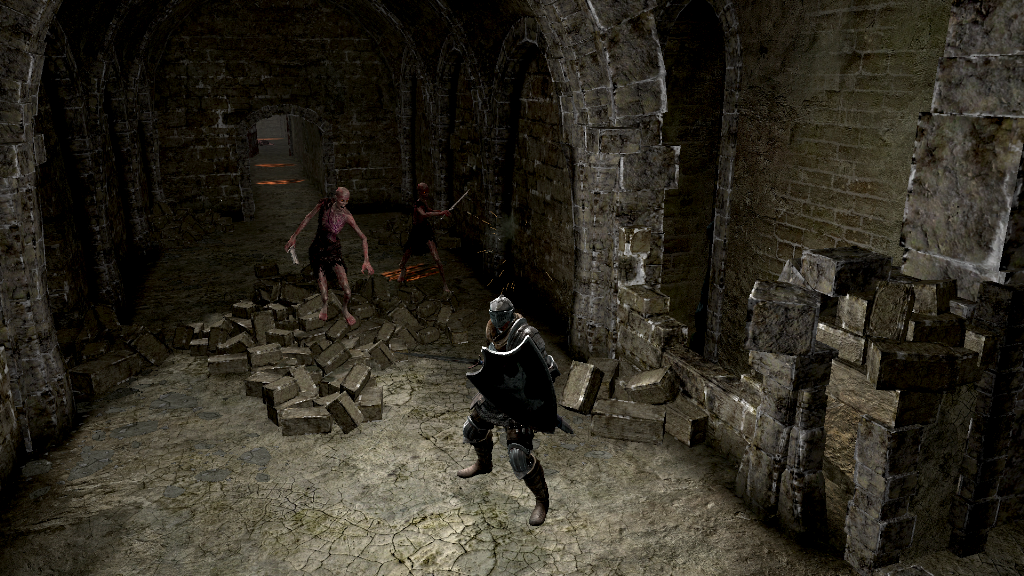hollow: (286, 187, 376, 331), (397, 180, 452, 295)
player: (454, 294, 562, 528)
